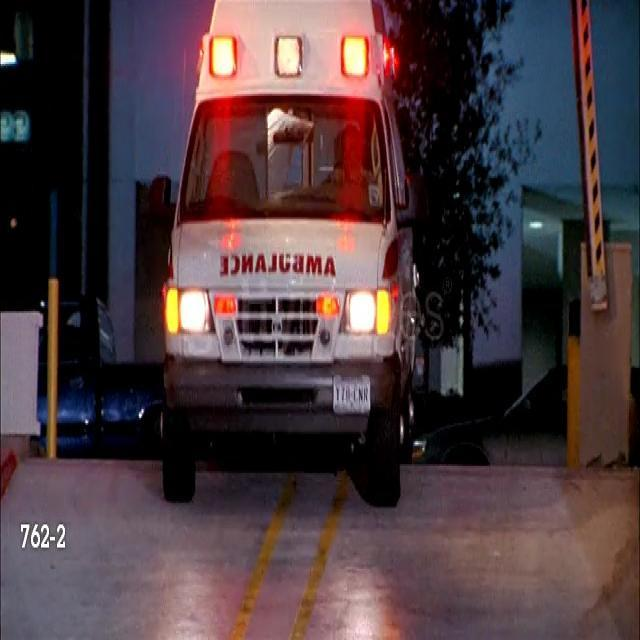emergency: (154, 1, 420, 519)
